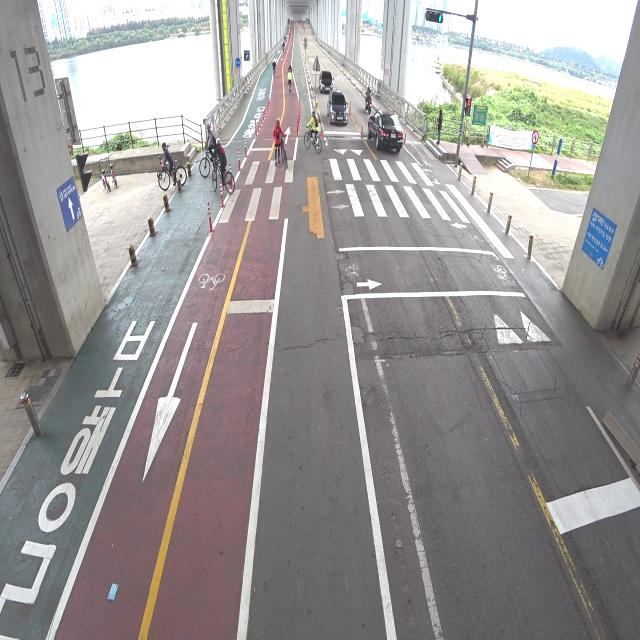Car: (364, 107, 405, 160), (326, 84, 351, 137), (312, 64, 335, 95)
Motorcycle: (363, 83, 370, 113)
